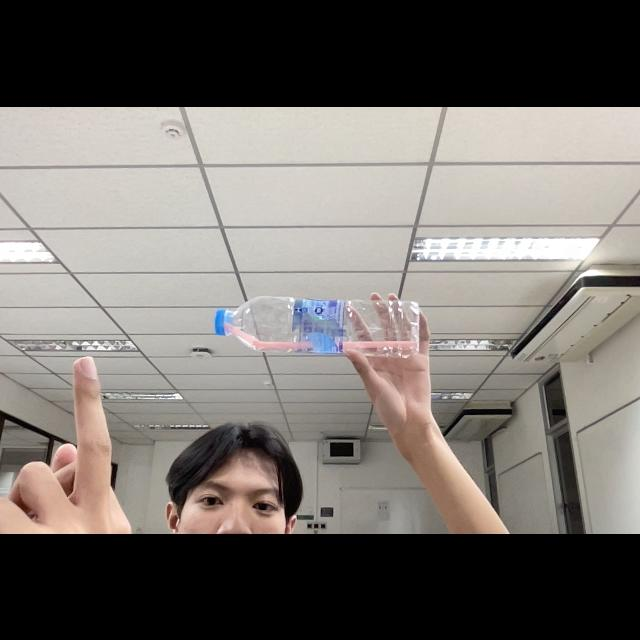plastic_bottle: (209, 284, 429, 364)
